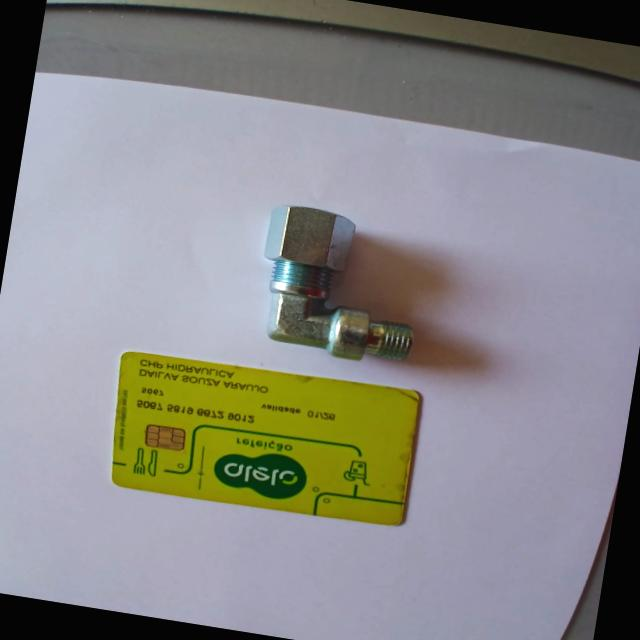cartao: (102, 347, 426, 532)
rosca_externa: (249, 200, 432, 371)
